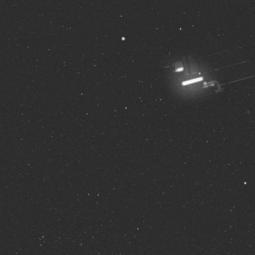earth_observation_sat_1: (170, 46, 248, 99)
